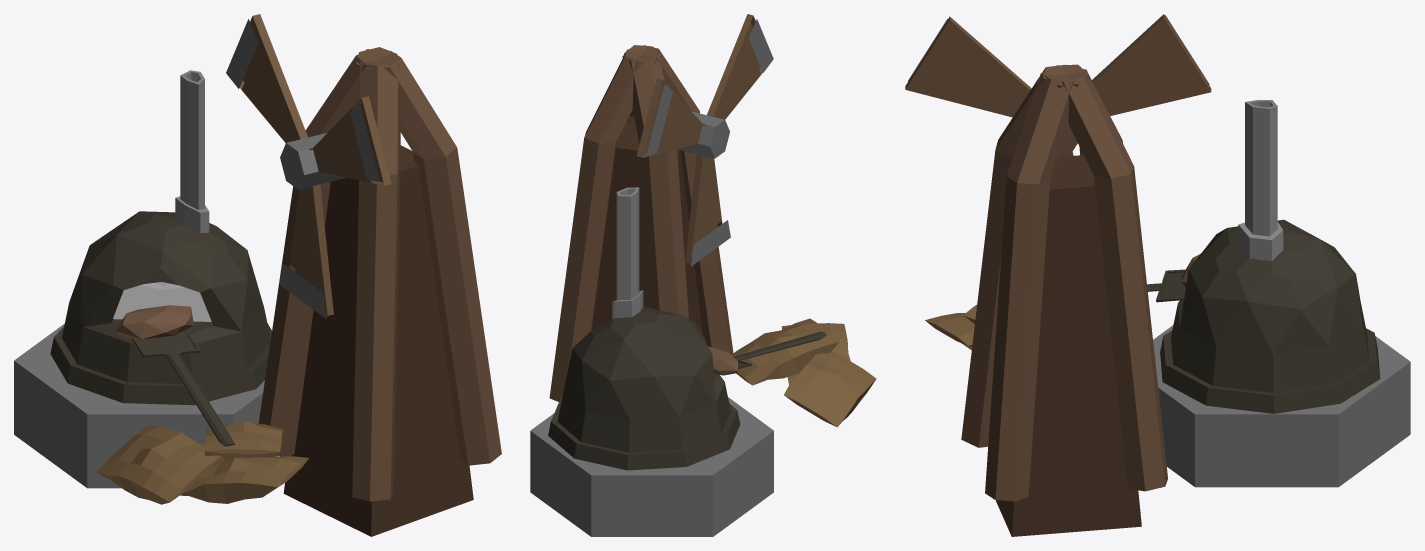
The model's file is Bakery LvL 1.fbx.
The picture shows the model from 3 angles, left to right: view 1: azimuth 30°, elevation 25°; view 2: azimuth 150°, elevation 25°; view 3: azimuth 270°, elevation 25°; orthographic projection. The views are drawn at different scales.
Visible parts, largest first — view 1: Cube.006, fan, Team Color Obj.006; view 2: Cube.006, fan, Team Color Obj.006; view 3: Cube.006, fan.
Boxes of the visible parts, left/top/right/bottom form: Cube.006: left=14, top=47, right=501, bottom=536; fan: left=239, top=14, right=391, bottom=315; Team Color Obj.006: left=226, top=19, right=379, bottom=319; Cube.006: left=530, top=45, right=876, bottom=536; fan: left=636, top=14, right=762, bottom=263; Team Color Obj.006: left=646, top=19, right=773, bottom=266; Cube.006: left=925, top=64, right=1410, bottom=536; fan: left=905, top=14, right=1211, bottom=156.
Bounding box in the file's own units: 139 × 177 × 179.
